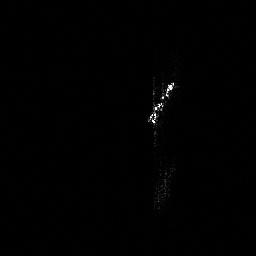ship: (144, 78, 178, 127)
